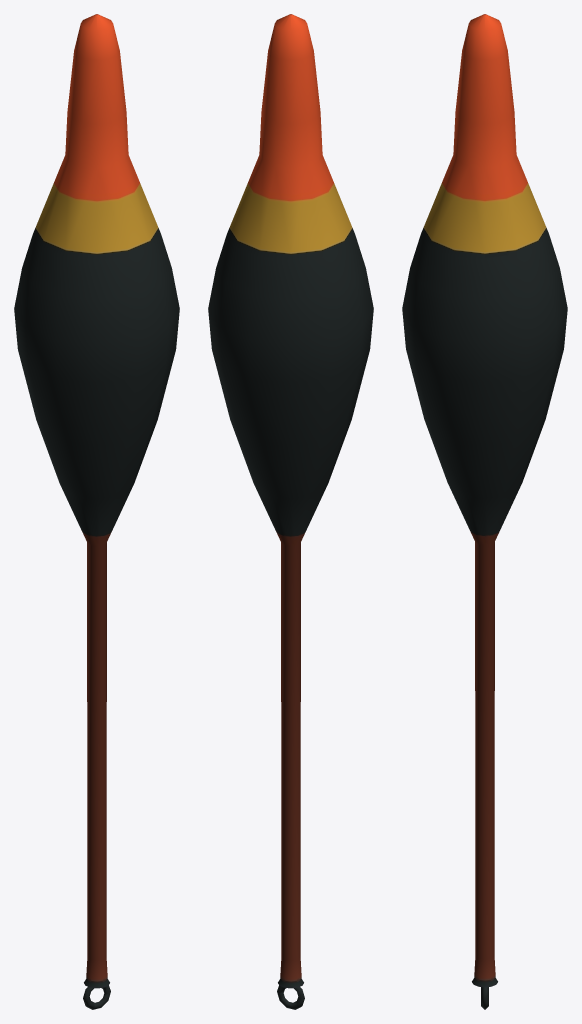
3 renders of one model, left to right at view 1: azimuth 30°, elevation 25°; view 2: azimuth 150°, elevation 25°; view 3: azimuth 270°, elevation 25°, orthographic.
Visible parts, largest first — view 1: F04_Float; view 2: F04_Float; view 3: F04_Float.
Part boxes in pixels (x1,y1,x2,y2): F04_Float: (14,14,179,1009); F04_Float: (208,14,373,1009); F04_Float: (402,14,567,1009).
Size of the model in its own units: 0.0272 by 0.18 by 0.0272.
Materials: 1 (1 with a texture image).
